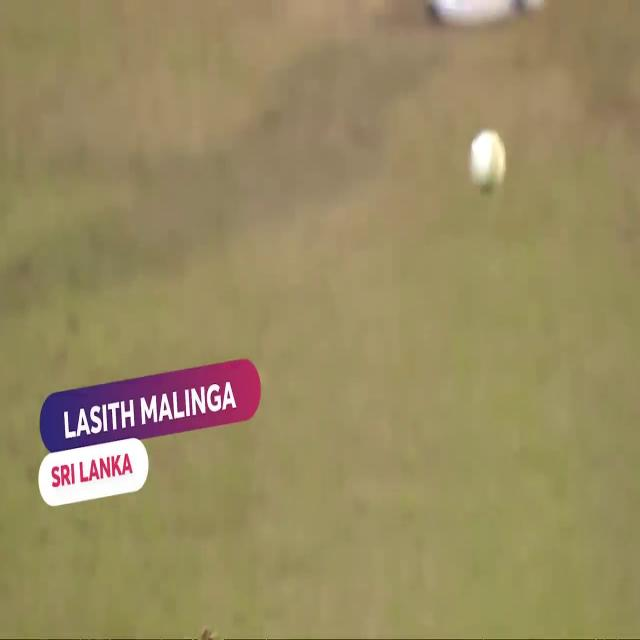ball: (468, 129, 506, 195)
